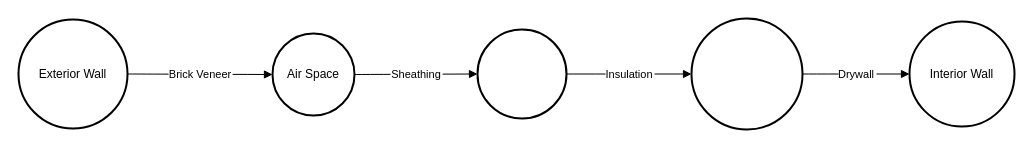
Some shapes in this 1032 by 147 pixel diagram are drawn without their labels. Each missing label, with the centre of its shape:
"Vapor Barrier" belongs at (746,73).
"Wall Studs" belongs at (521,73).
